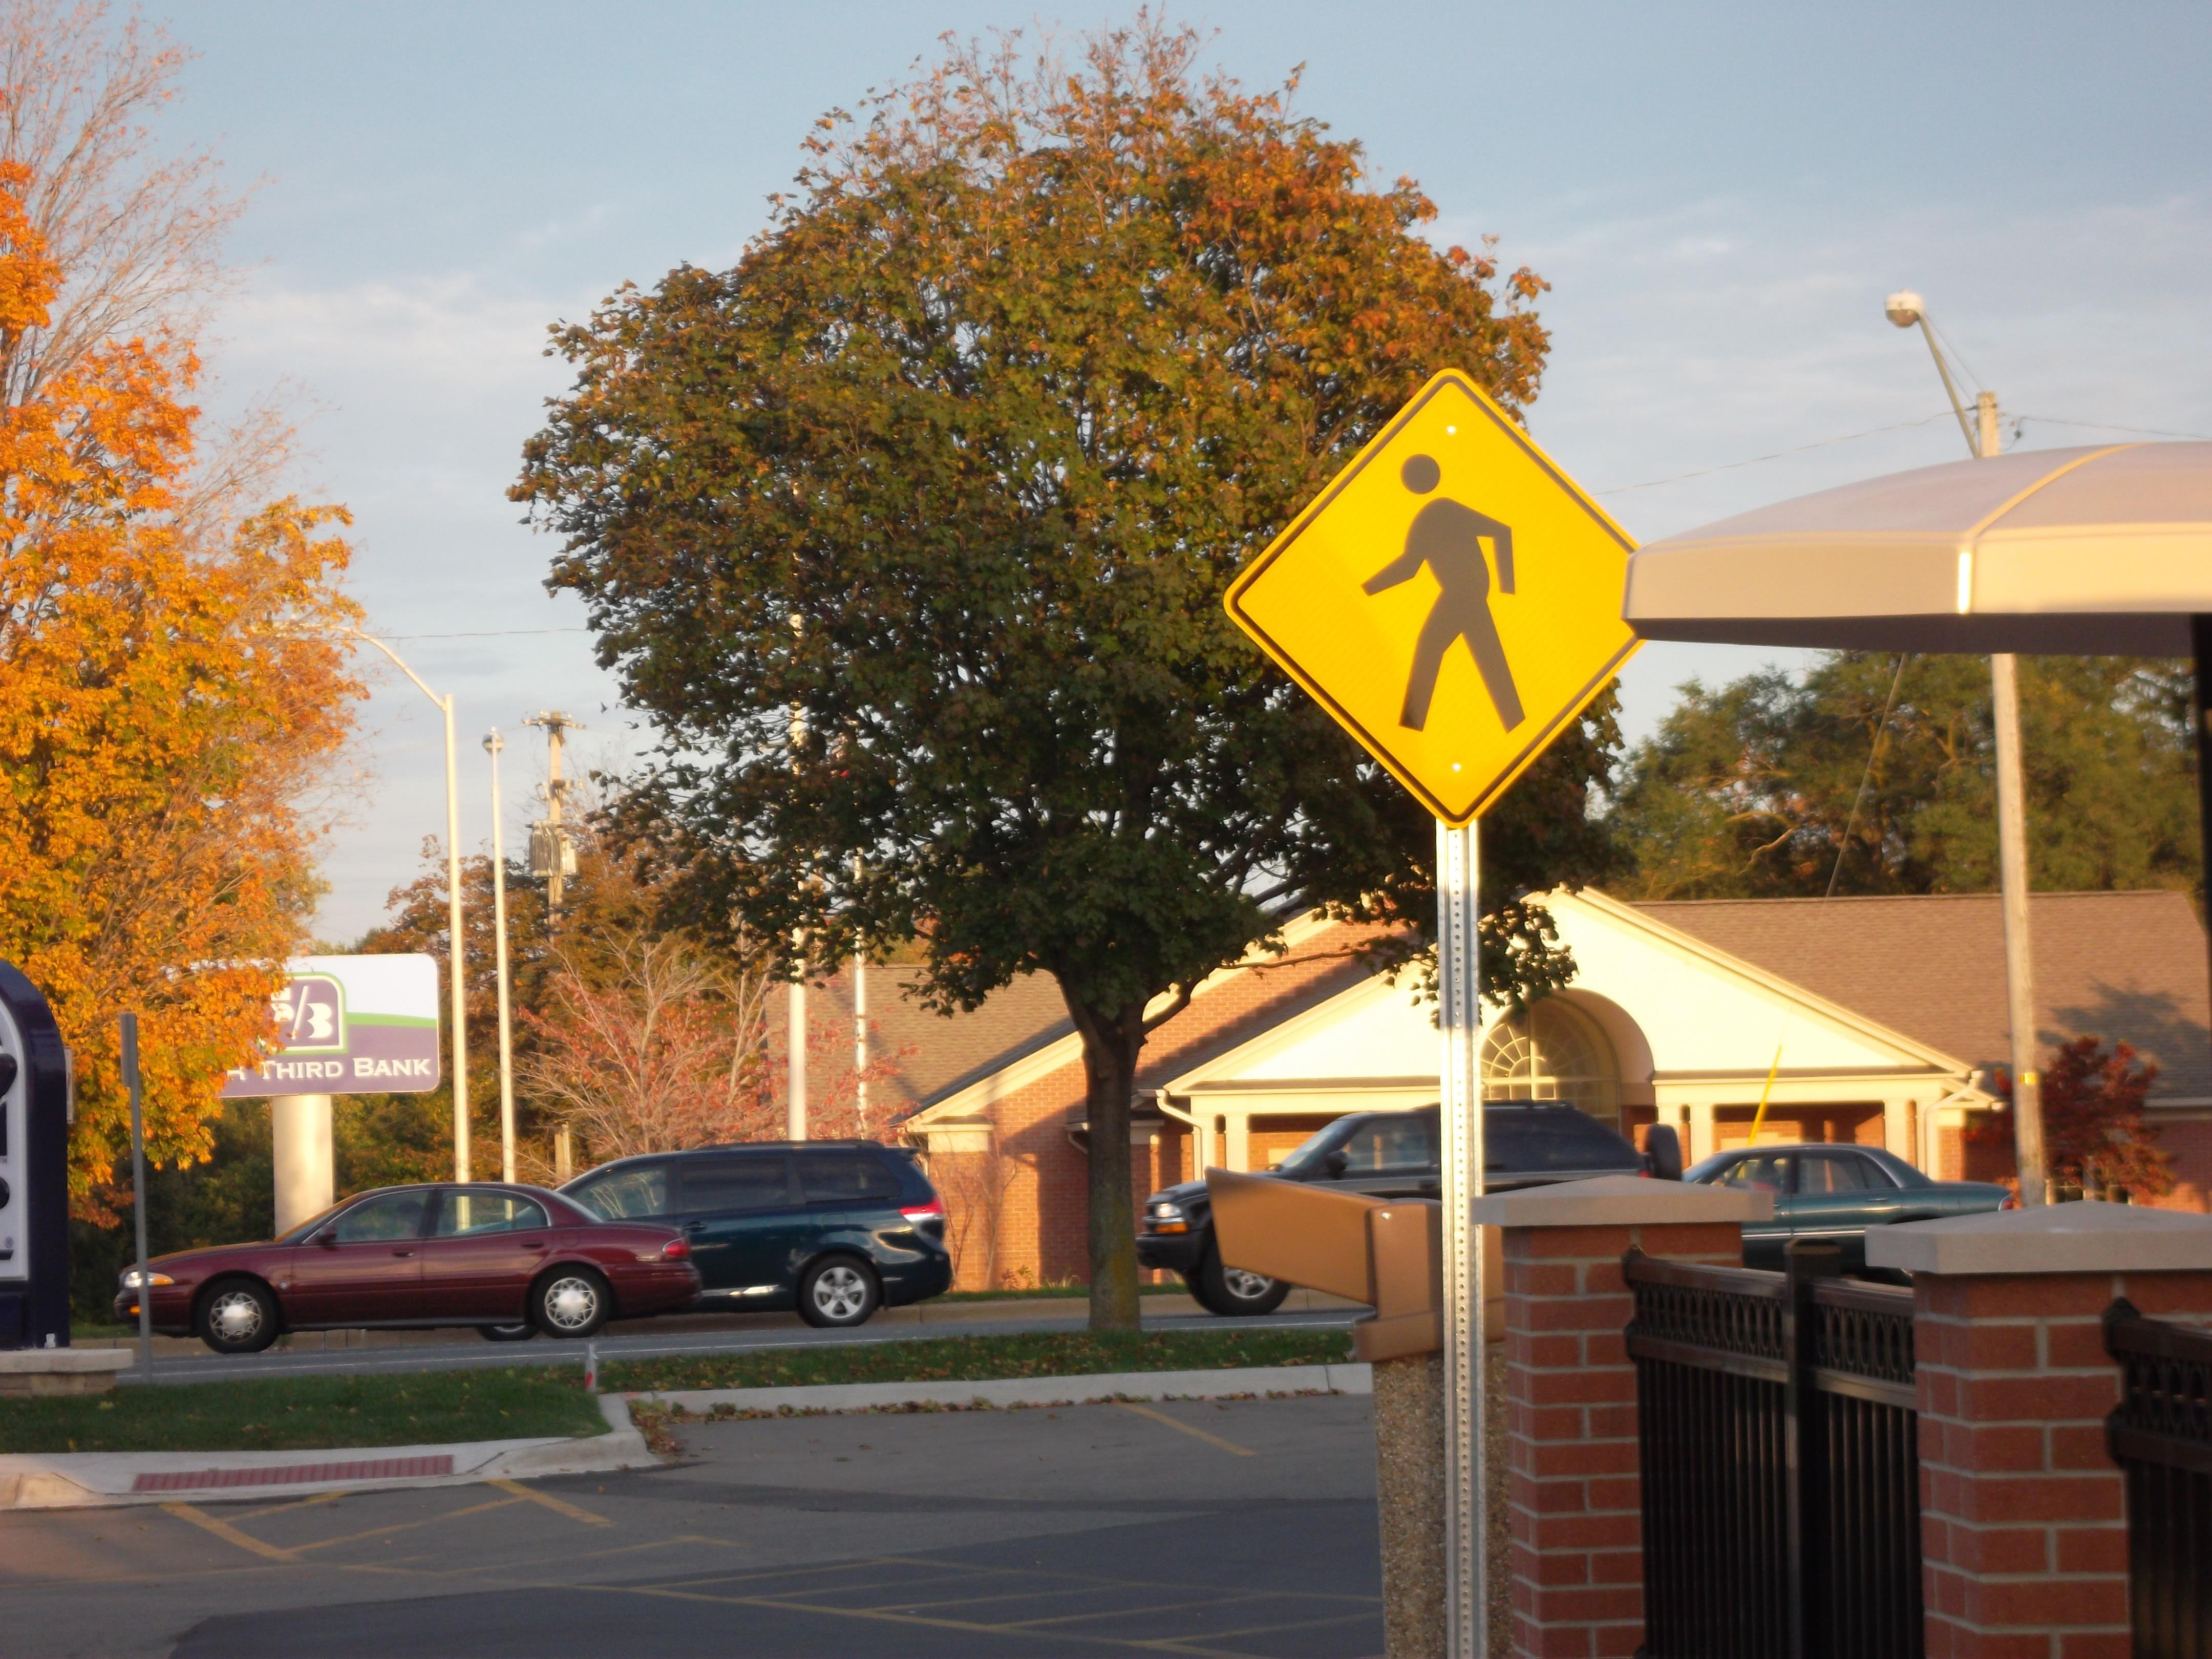warning: (1195, 343, 1667, 838)
